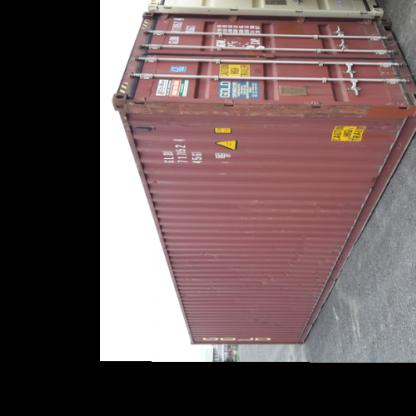Damage: (113, 85, 372, 121)
